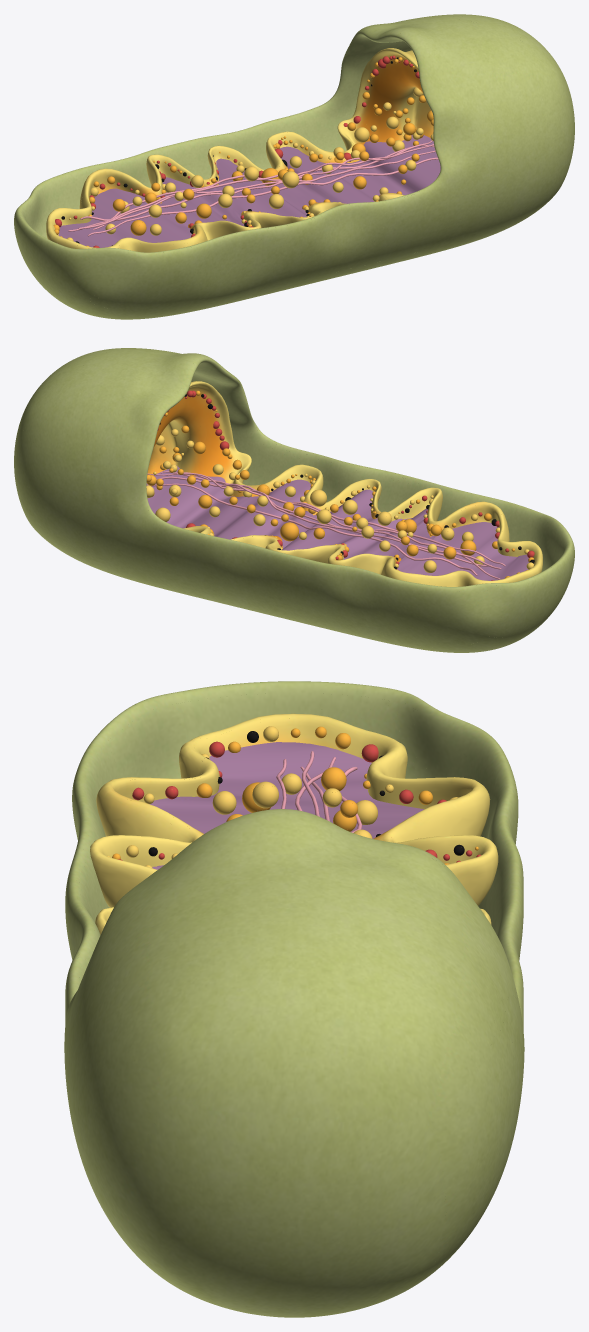
The model's file is mitochondria-art.web.glb.
3 views of the same model, one above another, from view 1: azimuth 30°, elevation 25°; view 2: azimuth 150°, elevation 25°; view 3: azimuth 270°, elevation 25° (orthographic). The views are drawn at different scales.
Visible parts, largest first — view 1: Object_3, Object_2, Object_5, Object_6, Object_4; view 2: Object_2, Object_3, Object_6, Object_5, Object_4; view 3: Object_3, Object_2, Object_6, Object_5, Object_4.
Part boxes in pixels (x1,y1,x2,y2): Object_3: [14, 14, 574, 319]; Object_2: [17, 28, 442, 253]; Object_5: [48, 16, 573, 316]; Object_6: [47, 48, 433, 252]; Object_4: [53, 55, 435, 247]; Object_2: [15, 356, 571, 647]; Object_3: [14, 348, 574, 642]; Object_6: [146, 381, 542, 585]; Object_5: [79, 350, 538, 652]; Object_4: [146, 390, 534, 580]; Object_3: [64, 681, 524, 1317]; Object_2: [70, 681, 524, 1274]; Object_6: [90, 718, 498, 934]; Object_5: [70, 728, 479, 1161]; Object_4: [113, 726, 480, 867].
Bounding box in the file's own units: 28.34 × 11.17 × 10.74.
5 materials, 5 textured.
